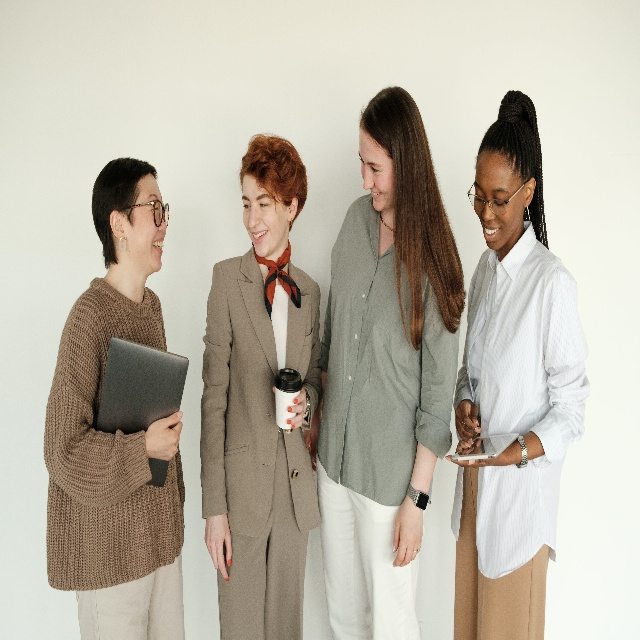Gafas: (466, 176, 530, 217), (118, 199, 170, 228)
Sin_guantes: (390, 498, 424, 568), (145, 407, 183, 462), (204, 512, 233, 581), (271, 383, 306, 431), (444, 439, 487, 469), (454, 398, 482, 440)
